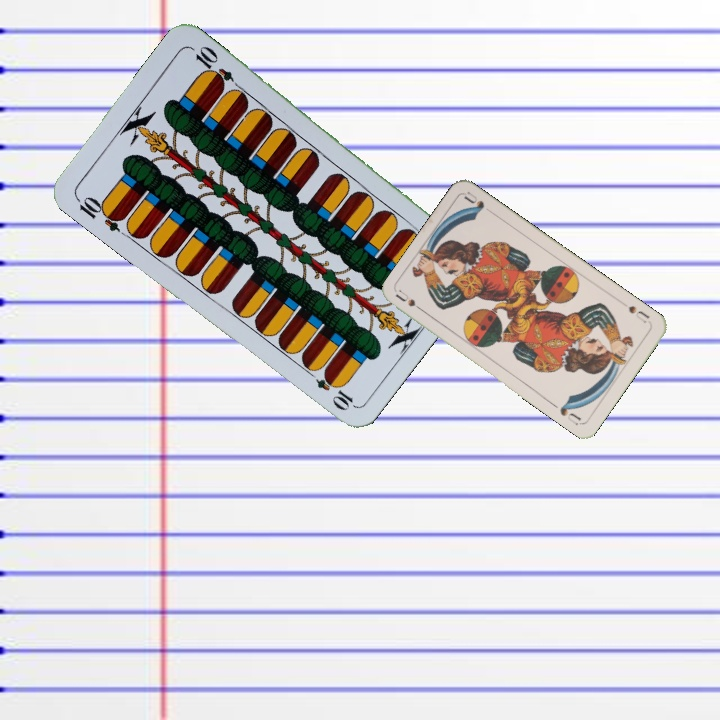E10: (72, 192, 127, 235)
SU: (392, 286, 430, 317), (618, 298, 652, 326)
